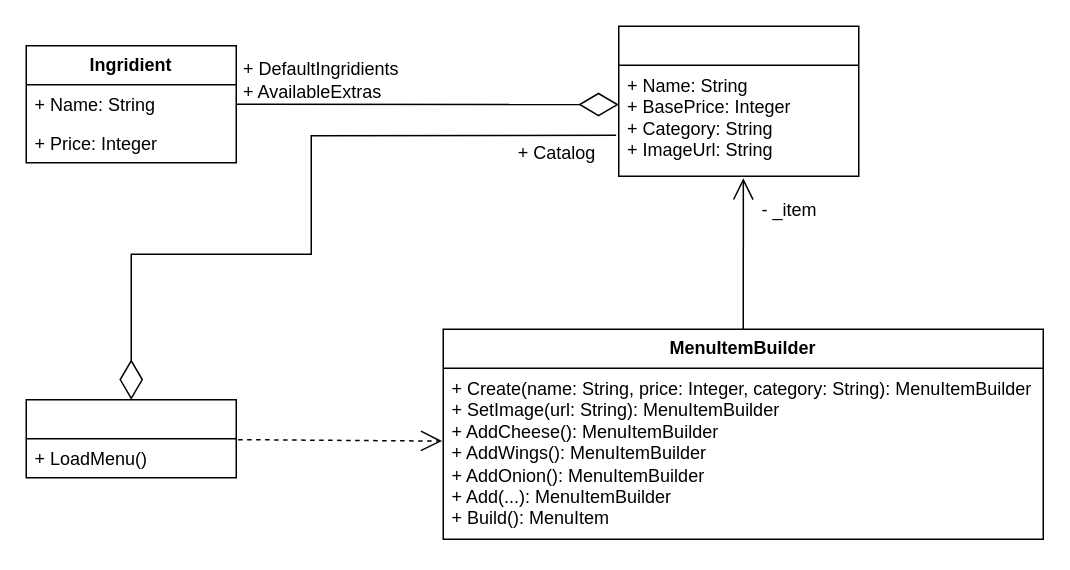
Image size: 1070x570. Some labels were removed from this diagram. The box of each missing label's shape, as (x1, y1, x2, y2) in pixels:
MenuItem: (617, 25, 859, 176)
MenuManager: (25, 398, 236, 478)
